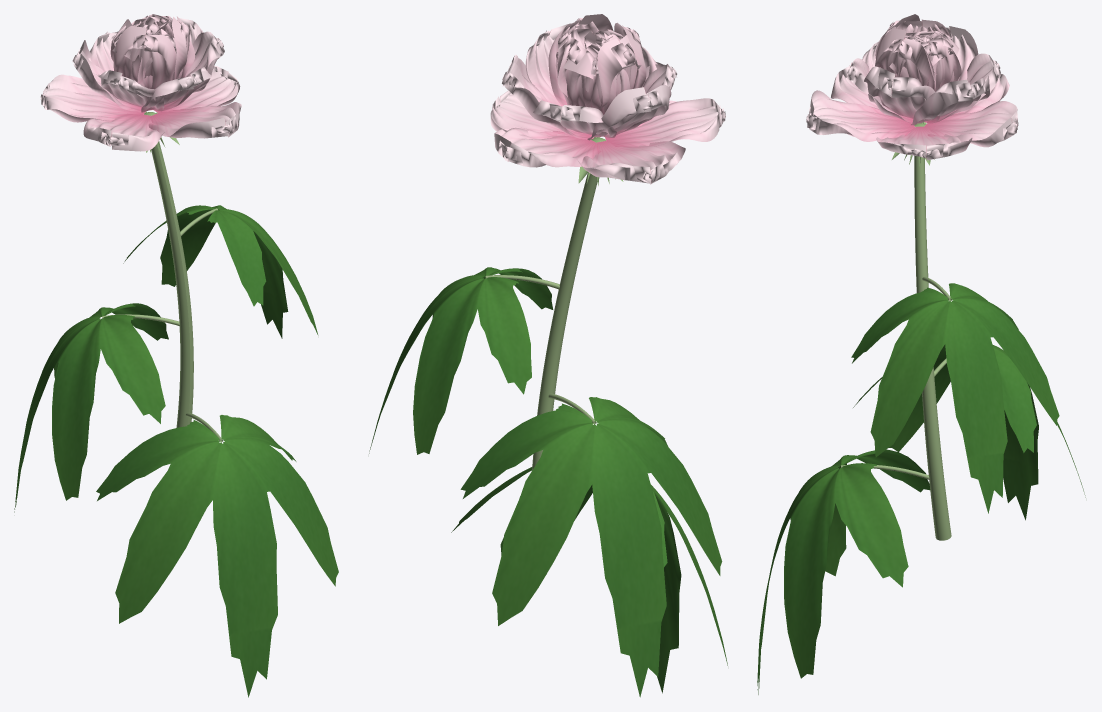
Rendered from hibiscus-mutabilis.glb.
3 renders of one model, left to right at view 1: azimuth 30°, elevation 25°; view 2: azimuth 150°, elevation 25°; view 3: azimuth 270°, elevation 25°, orthographic. The views are drawn at different scales.
Parts seen in each view (by area): view 1: leaf, petal_outer, petal_mid, stem; view 2: leaf, petal_outer, petal_mid, stem; view 3: leaf, petal_outer, stem, petal_mid.
Part boxes in pixels (left/top/right/bottom): leaf: left=14, top=205, right=338, bottom=697; petal_outer: left=40, top=18, right=241, bottom=151; petal_mid: left=110, top=14, right=195, bottom=89; stem: left=102, top=141, right=222, bottom=442; leaf: left=369, top=267, right=727, bottom=697; petal_outer: left=490, top=23, right=725, bottom=184; petal_mid: left=548, top=14, right=646, bottom=114; stem: left=485, top=172, right=597, bottom=574; leaf: left=757, top=283, right=1085, bottom=694; petal_outer: left=806, top=26, right=1018, bottom=160; stem: left=841, top=155, right=951, bottom=540; petal_mid: left=875, top=14, right=961, bottom=91.
Bounding box in the file's own units: 0.1964 × 0.458 × 0.2066.
Materials: 7 (4 with a texture image).
